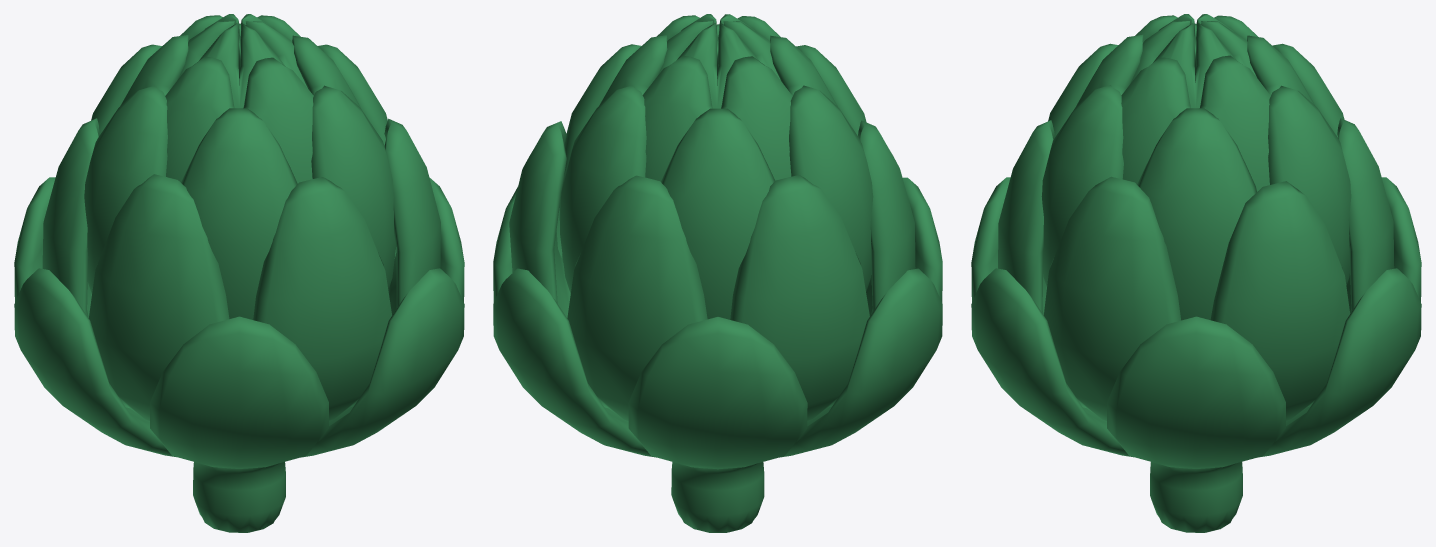
File: Artichoke_02.dae
3 renders of one model, left to right at view 1: azimuth 30°, elevation 25°; view 2: azimuth 150°, elevation 25°; view 3: azimuth 270°, elevation 25°, orthographic.
Parts seen in each view (by area): view 1: Artichoke_02_LOD0; view 2: Artichoke_02_LOD0; view 3: Artichoke_02_LOD0.
Boxes of the visible parts, bbox=[...] form: Artichoke_02_LOD0: bbox=[14, 14, 464, 532]; Artichoke_02_LOD0: bbox=[493, 14, 942, 532]; Artichoke_02_LOD0: bbox=[971, 14, 1421, 532].
Size of what is drawn, in the model's own units: 5.08 by 4.8 by 5.98.
